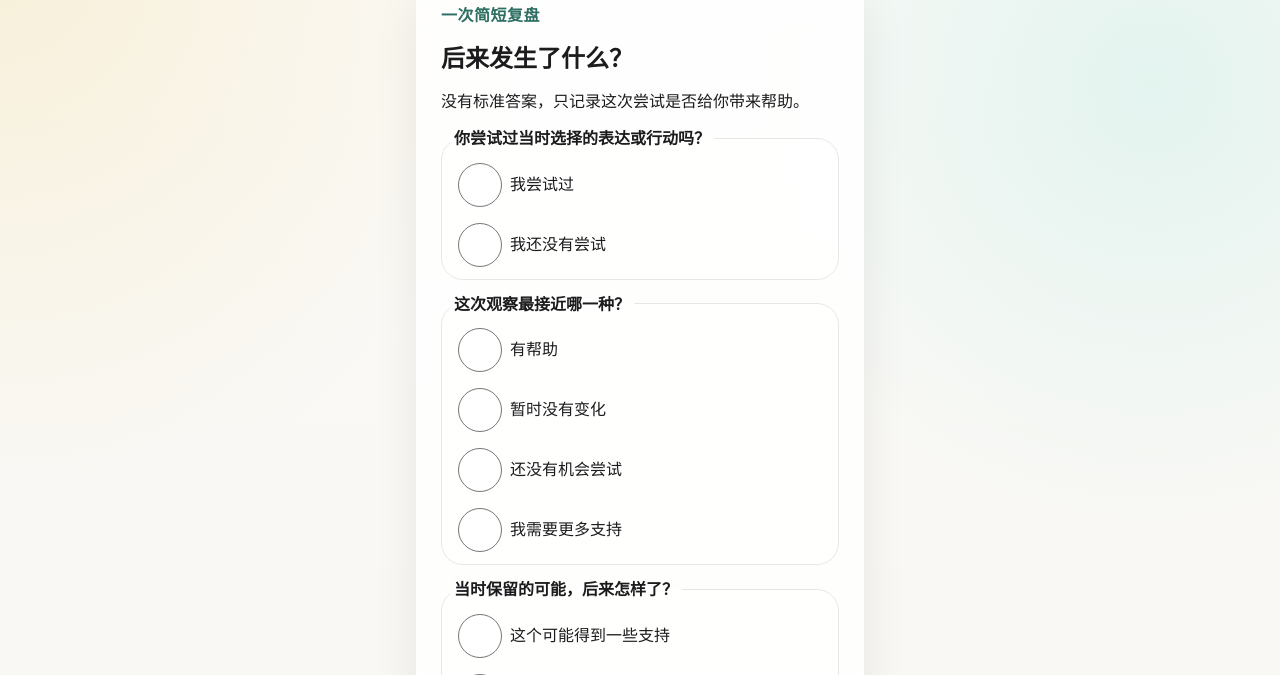
FollowUpPage › does not retry or celebrate deterministic review error review_already_recorded
This screenshot has width=1280, height=675.
Click the radio button labelled "我尝试过" at (480, 185), box [458,163,502,207]
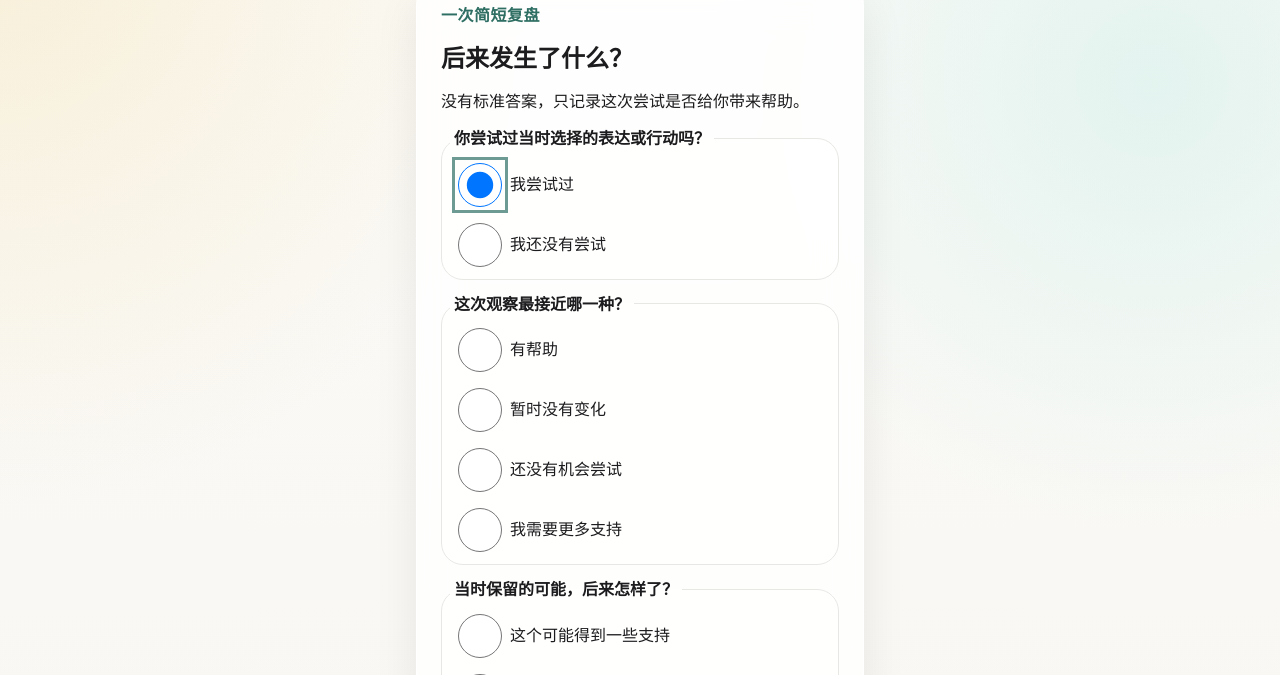
Click the radio button labelled "有帮助" at (480, 350), box [458,328,502,372]
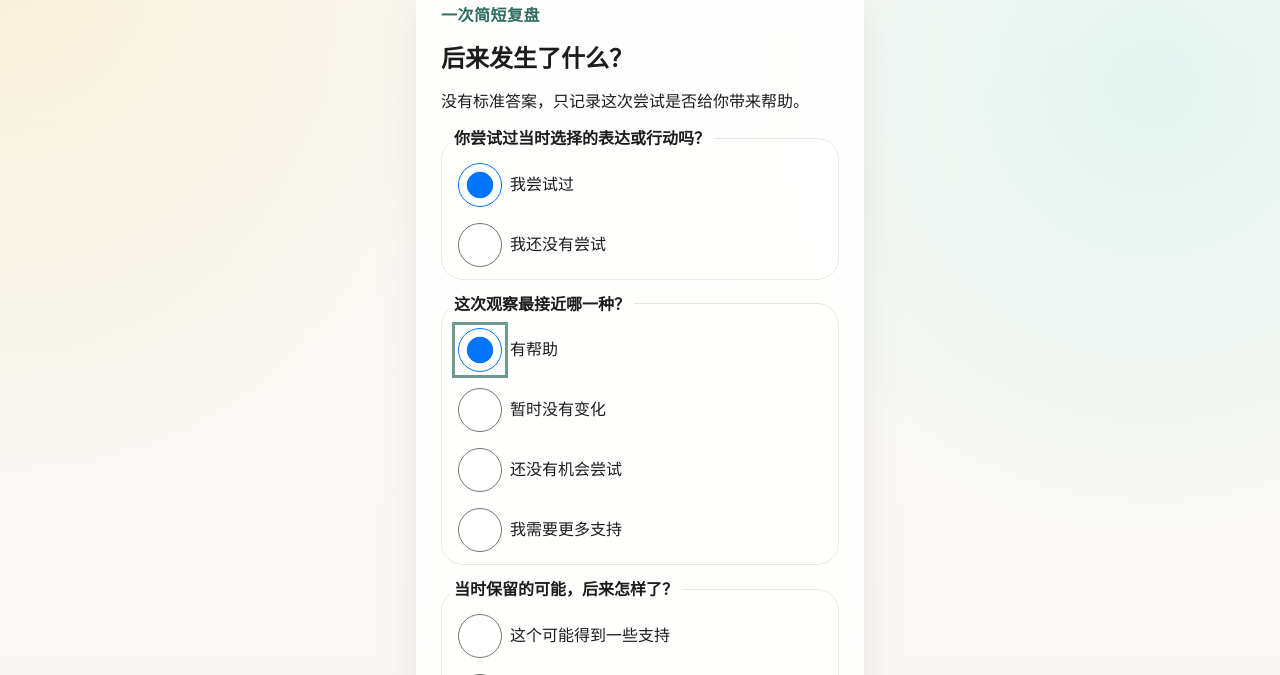
Click the radio button labelled "这个可能得到一些支持" at (480, 636), box [458,614,502,658]
(page scrolled)
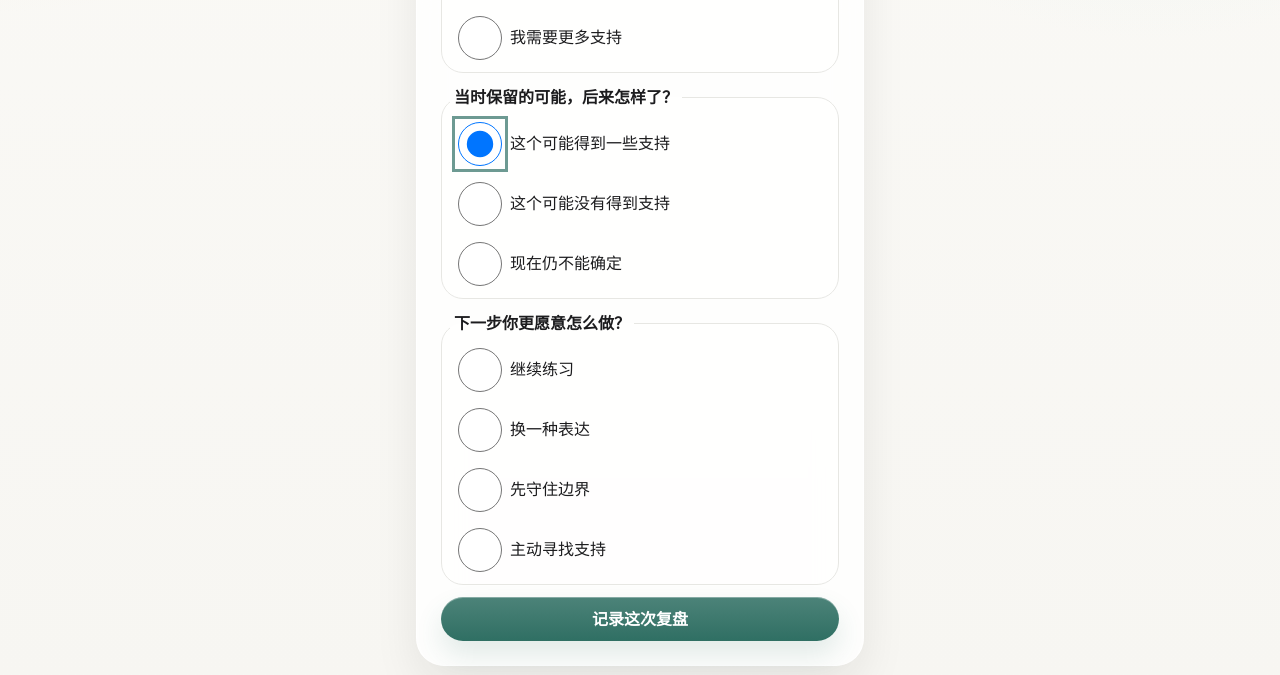
Click the radio button labelled "继续练习" at (480, 370), box [458,348,502,392]
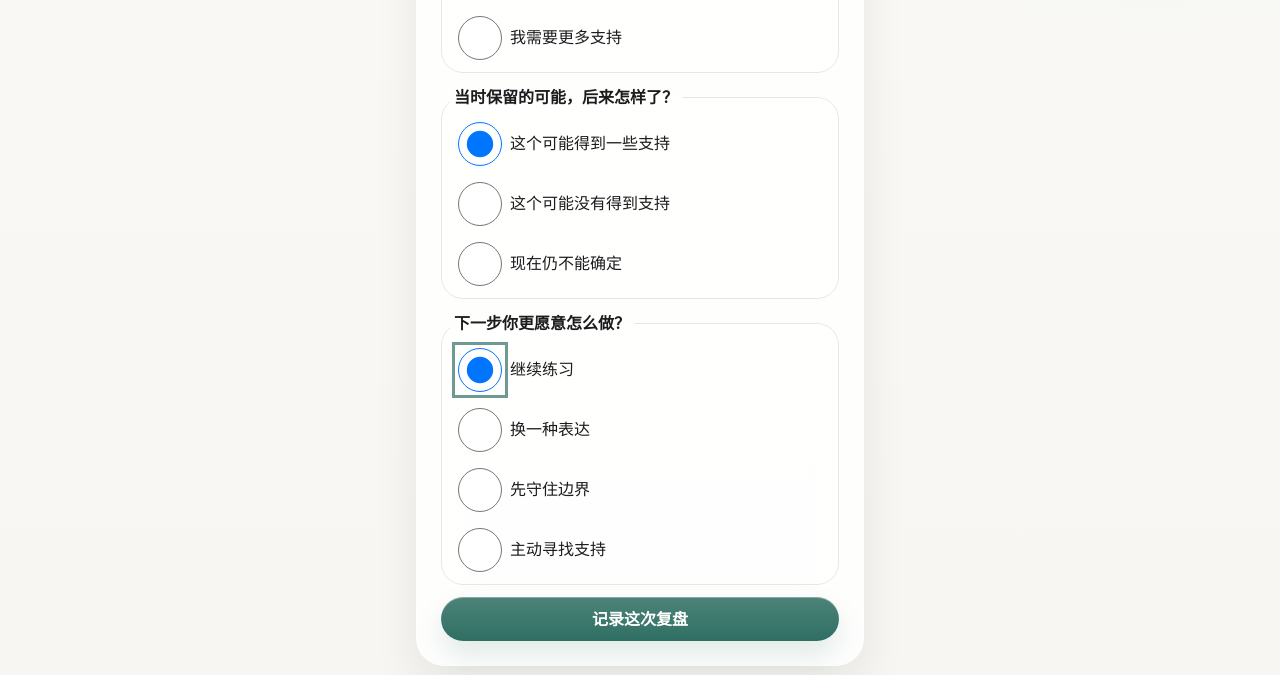
Click the button "记录这次复盘" at (640, 619), box [441,597,839,641]
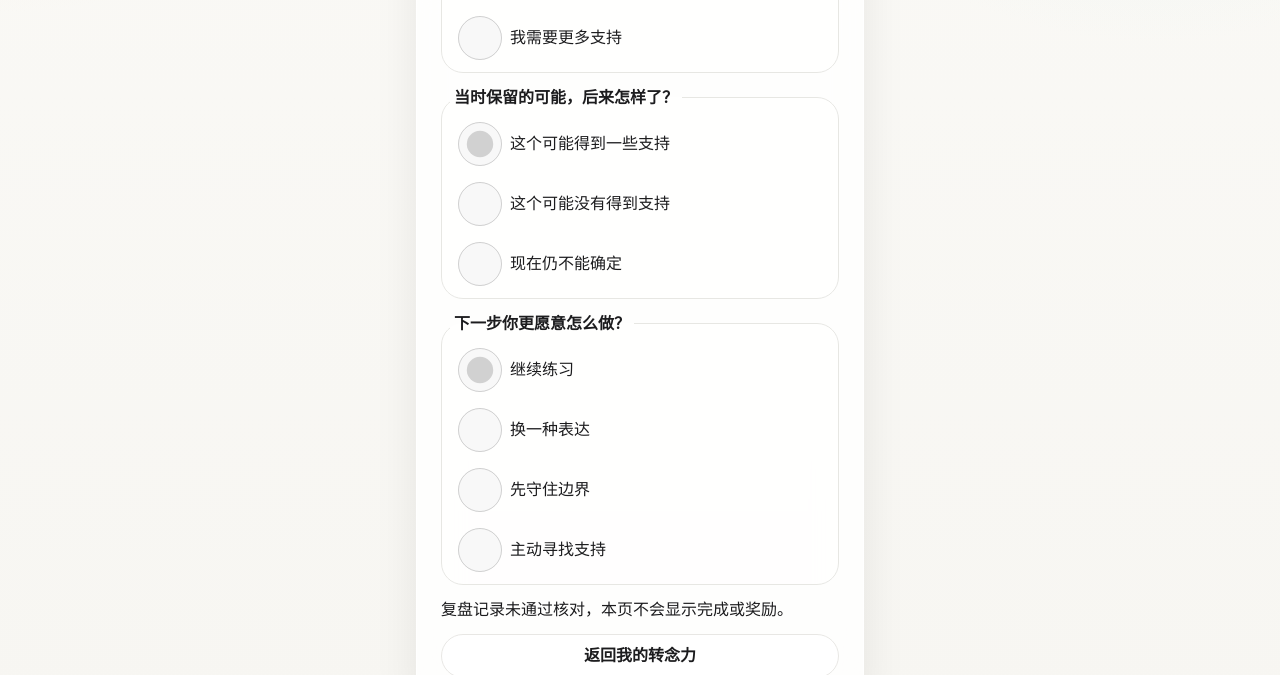
Now the message shows "复盘记录未通过核对", box [441,599,793,619]
